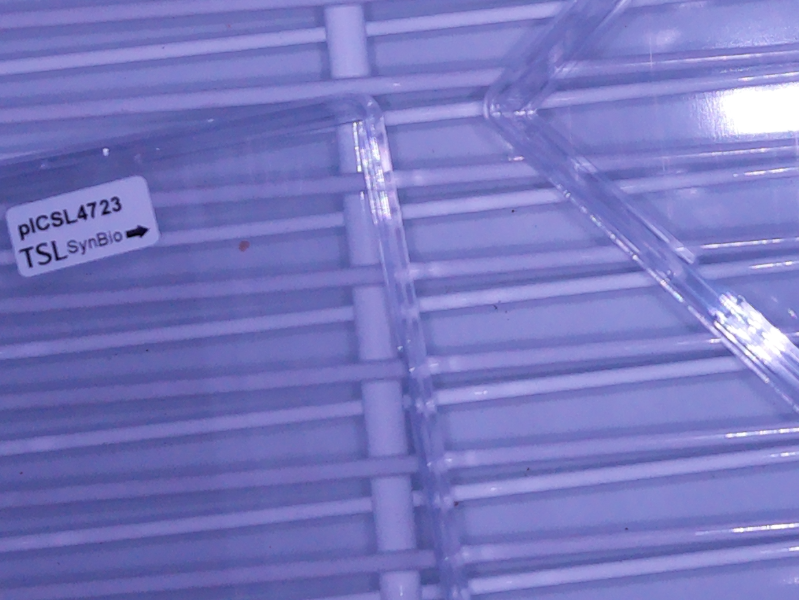plate: (1, 87, 461, 600), (483, 1, 799, 413)
